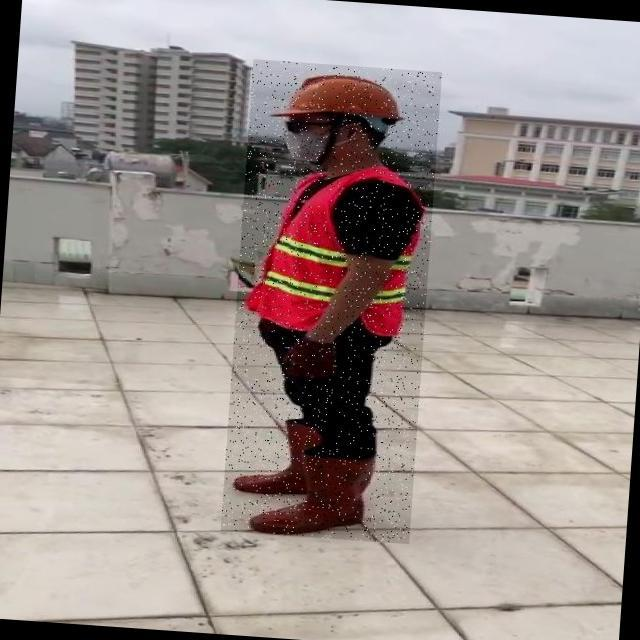Gloves: (284, 336, 344, 381)
Helmet: (274, 69, 413, 126)
Human: (221, 59, 444, 544)
Safety Boot: (254, 452, 377, 538), (240, 418, 322, 500)
Safety Vest: (252, 162, 431, 338)
